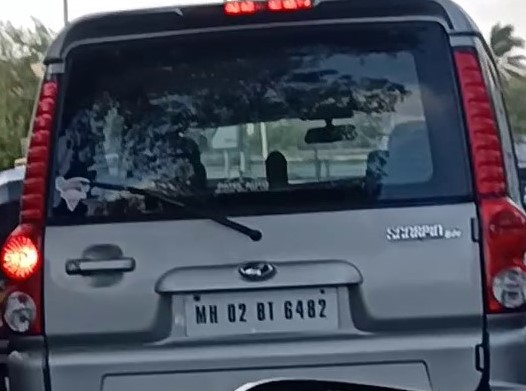MH02BT6482: (185, 286, 341, 336)
